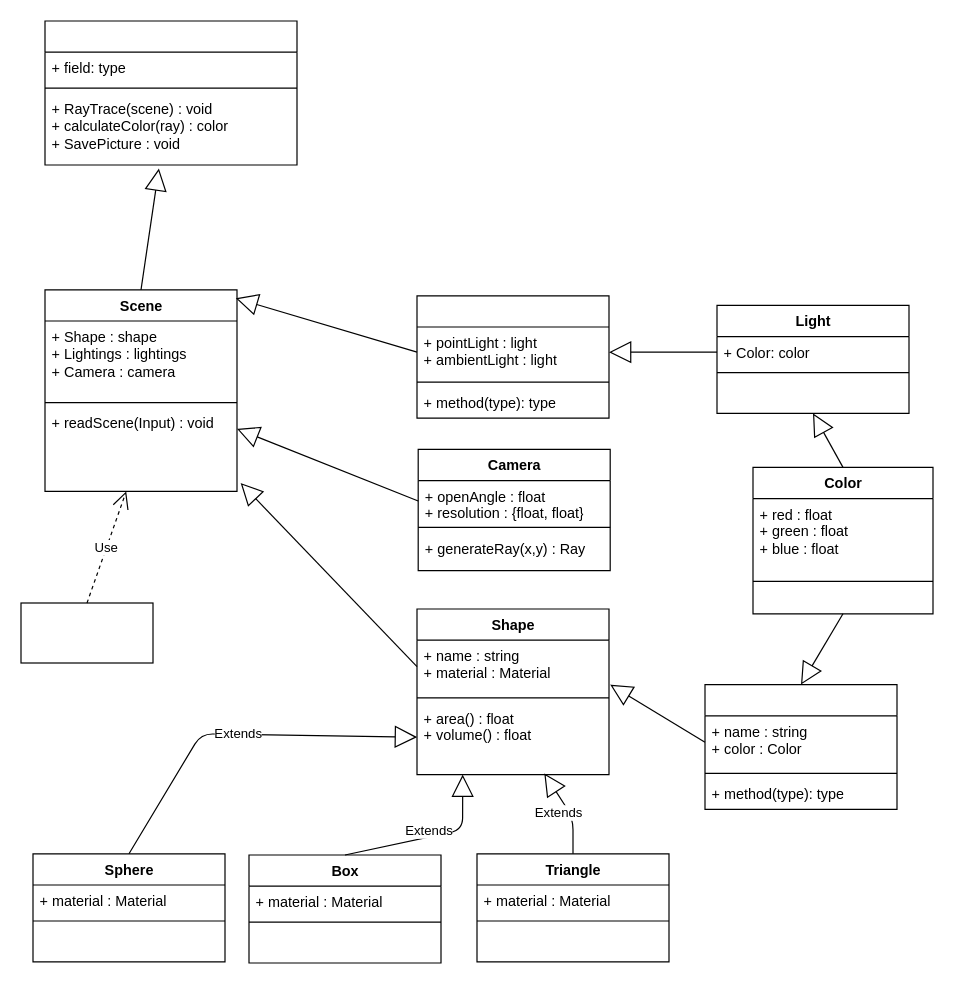
This 954x984 diagram has some shape labels left out. The box of each missing label's shape, as (x1, y1, x2, y2) in pixels:
Lightings: (416, 295, 609, 418)
Material: (704, 683, 897, 809)
RayTracer: (44, 20, 297, 165)
SDF Datei Input: (20, 602, 153, 663)
